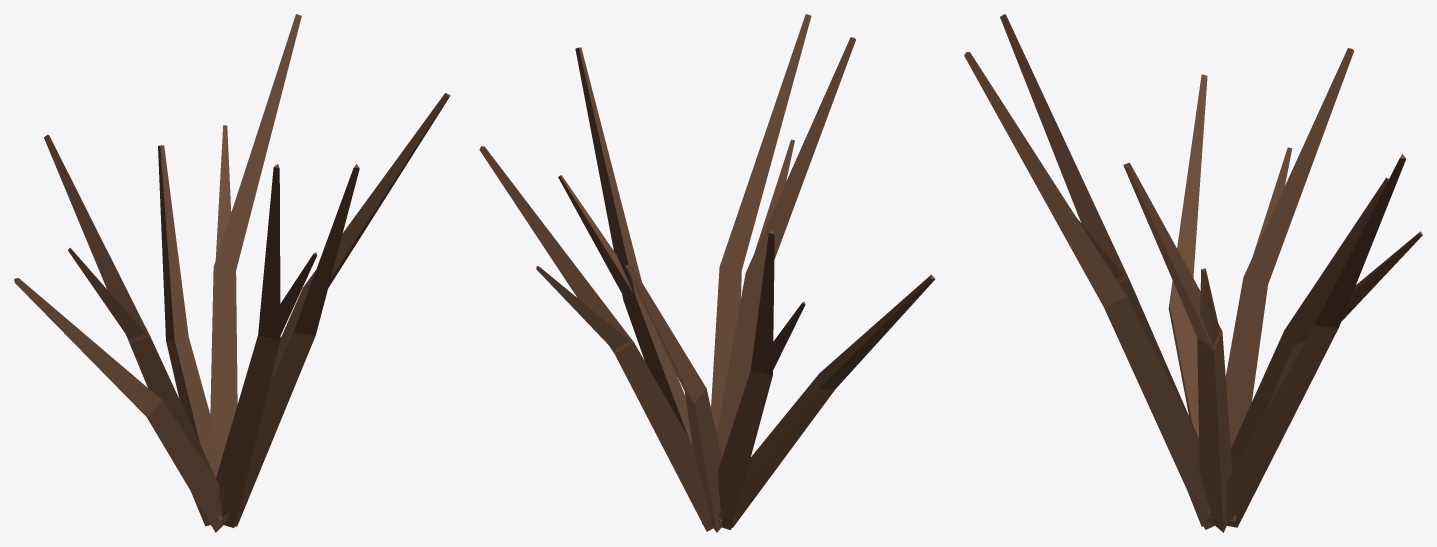
The model's file is Veg_Shrub_C.fbx.
The picture shows the model from 3 angles, left to right: view 1: azimuth 30°, elevation 25°; view 2: azimuth 150°, elevation 25°; view 3: azimuth 270°, elevation 25°; orthographic projection. The views are drawn at different scales.
Parts seen in each view (by area): view 1: Veg_Shrub_C; view 2: Veg_Shrub_C; view 3: Veg_Shrub_C.
Boxes of the visible parts, <box> form: Veg_Shrub_C: <box>14,14,450,532</box>; Veg_Shrub_C: <box>479,14,935,532</box>; Veg_Shrub_C: <box>964,14,1422,532</box>.
Bounding box in the file's own units: 0.7621 × 0.8018 × 0.6783.
